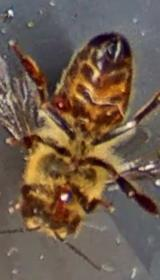varroa_mite: (36, 85, 78, 115)
